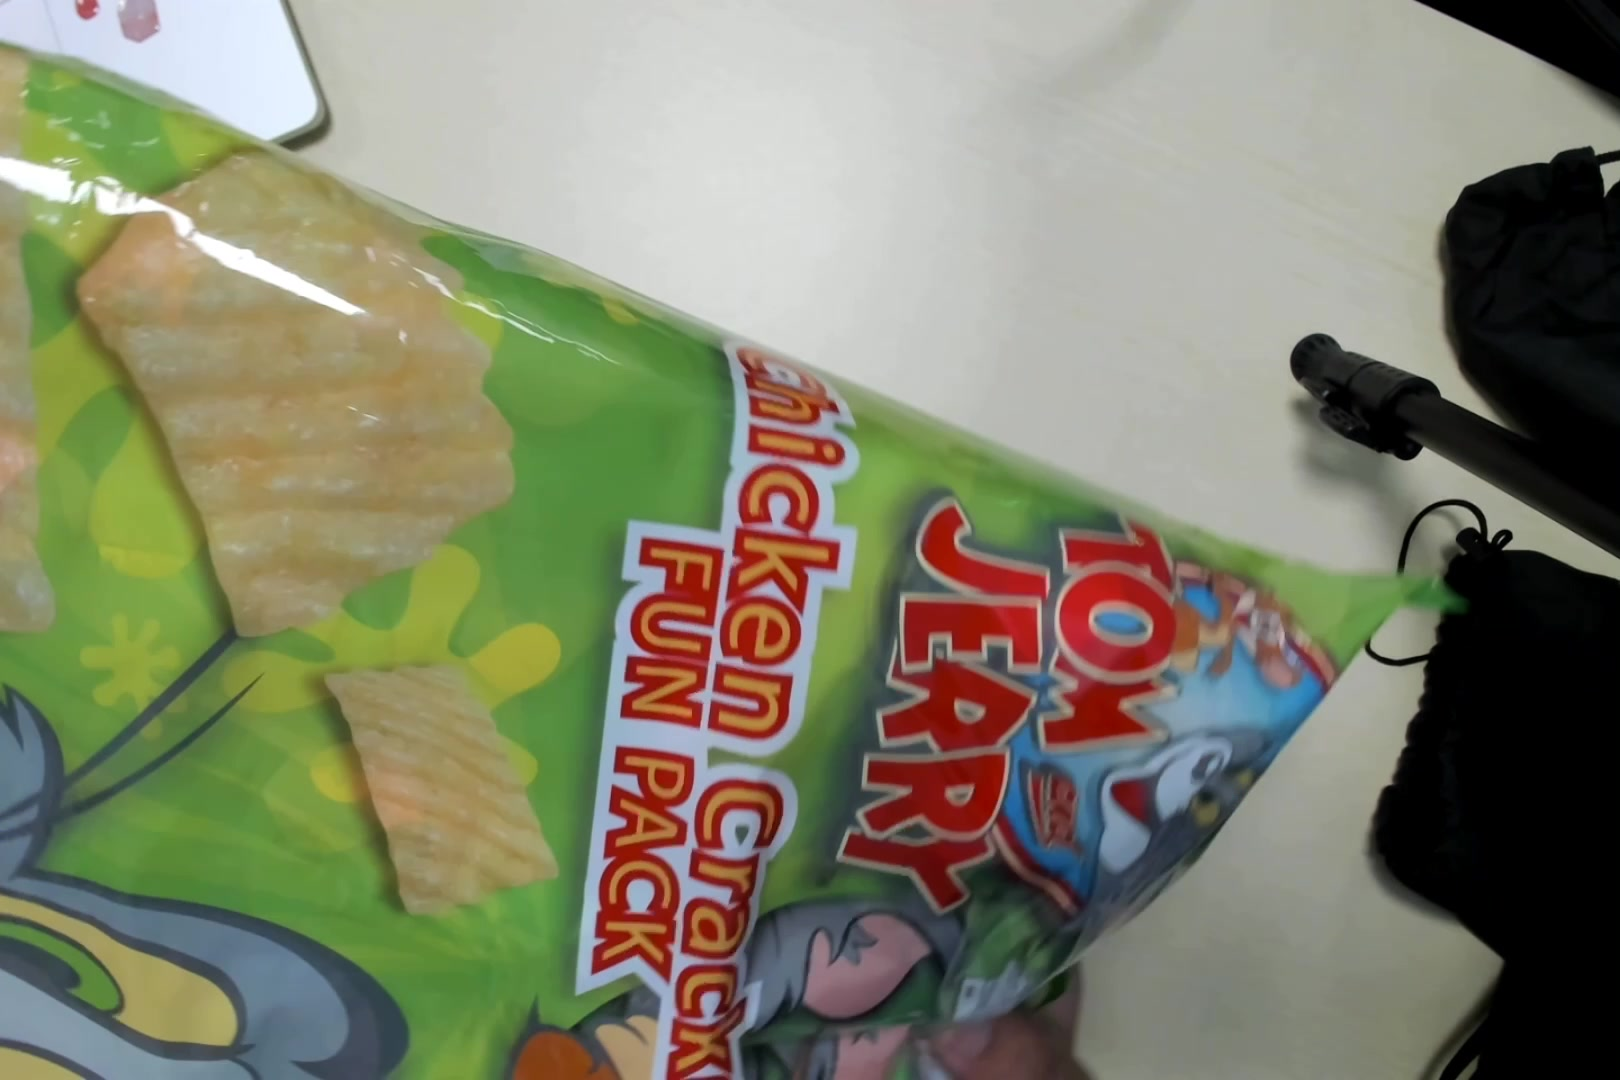PotatoChipsKeropok_200-299g_Halal_NonHealthy: (1, 71, 1375, 1080)
